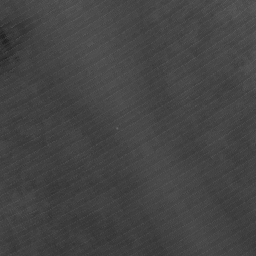Target: (113, 125, 121, 132)
